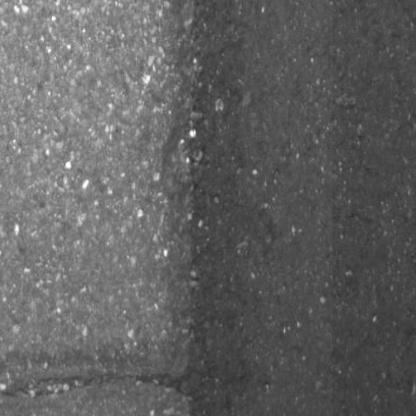Cracks: (0, 370, 138, 404)
